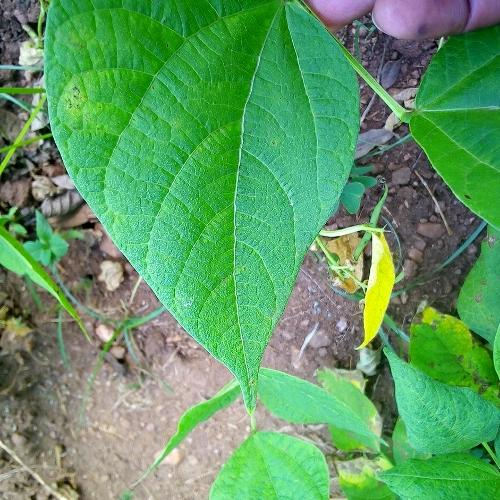sehat: (69, 33, 347, 248)
